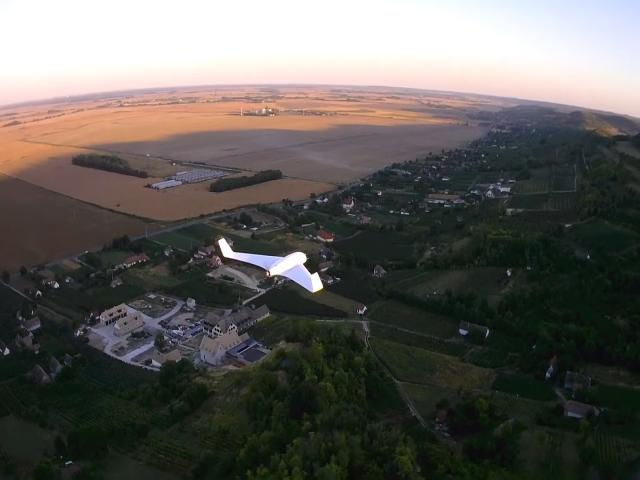plane: (218, 238, 322, 292)
